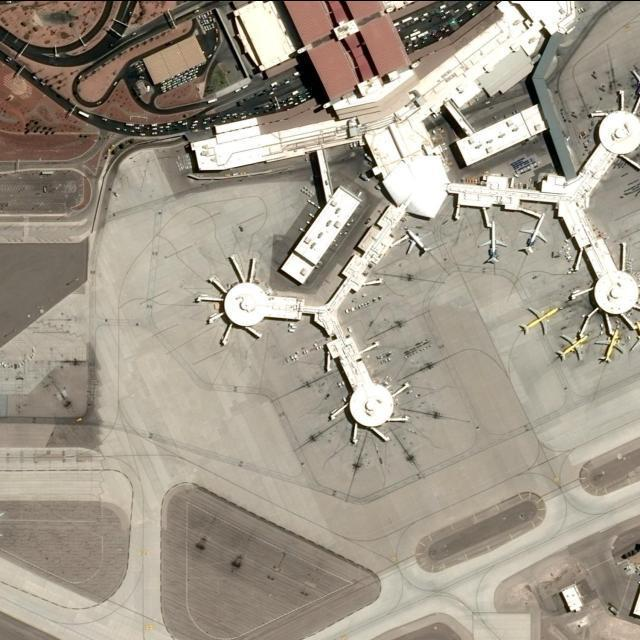Aircraft: (478, 220, 506, 264), (518, 213, 548, 253), (519, 306, 560, 335), (594, 328, 624, 364), (555, 332, 589, 362), (402, 228, 432, 258), (629, 321, 640, 361), (630, 65, 640, 95)
